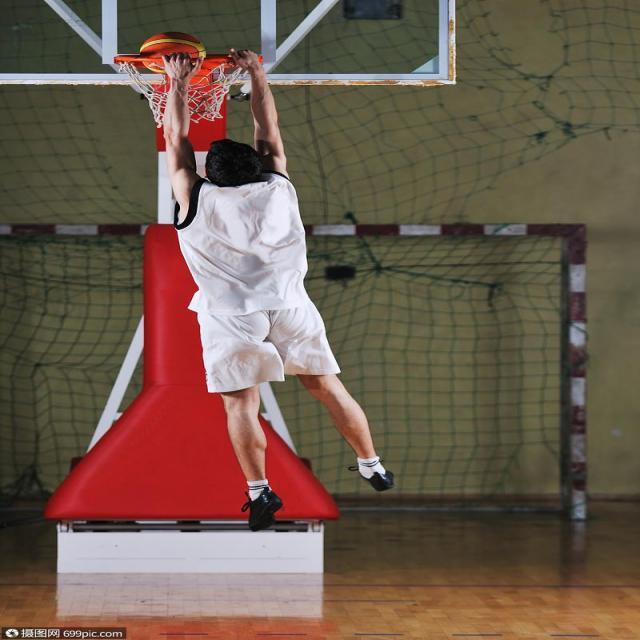rim: (142, 32, 206, 74)
